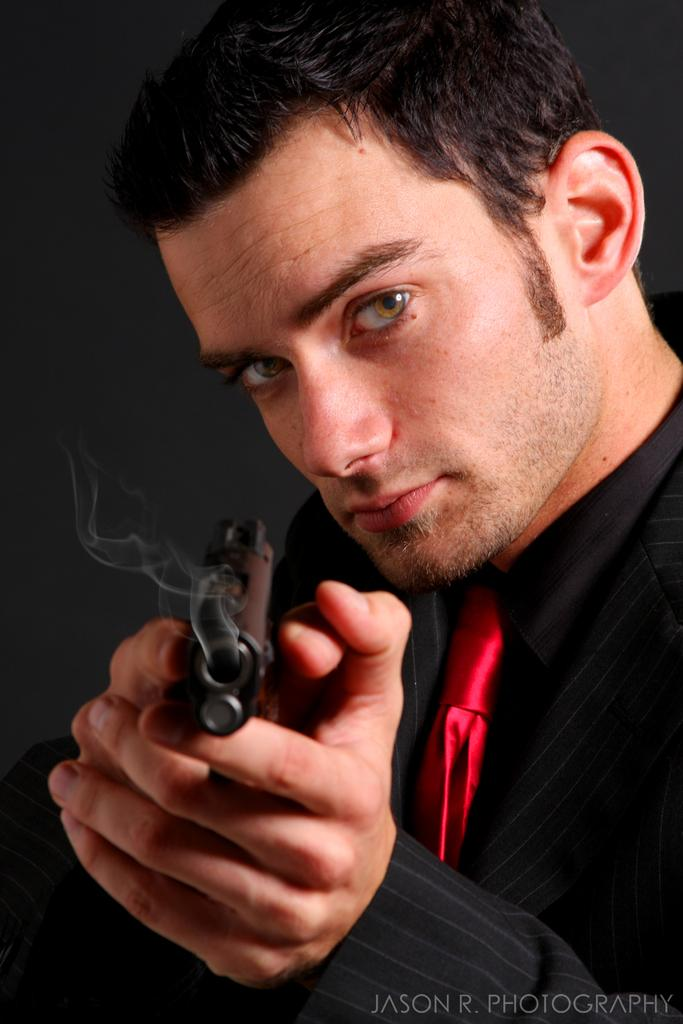Handgun: (167, 515, 279, 734)
